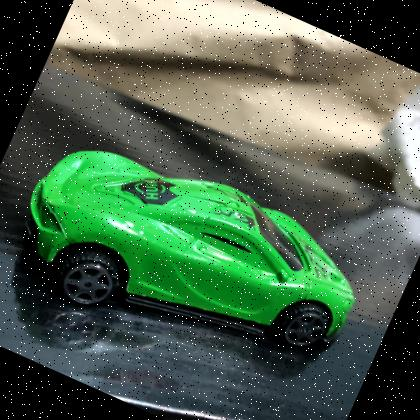Car: (27, 151, 355, 352)
